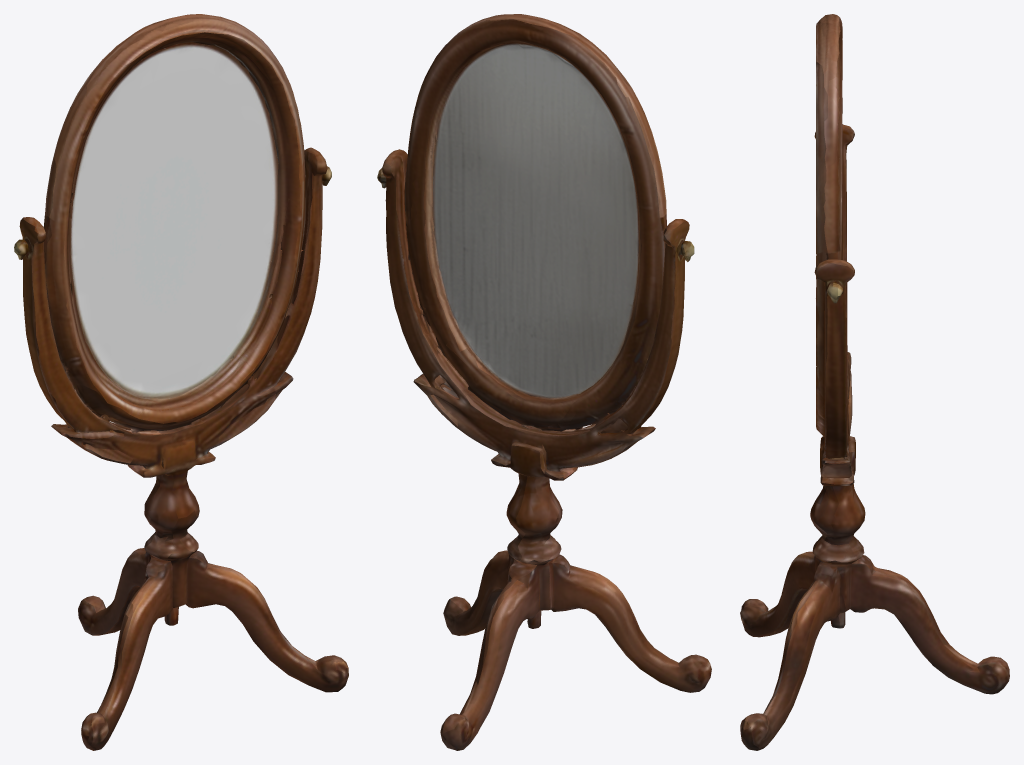
The model's file is anomaly_mirror.glb.
3 views of the same model, side by side, from view 1: azimuth 30°, elevation 25°; view 2: azimuth 150°, elevation 25°; view 3: azimuth 270°, elevation 25° (orthographic).
Parts seen in each view (by area): view 1: geometry_0; view 2: geometry_0; view 3: geometry_0.
Boxes of the visible parts, left/top/right/bottom form: geometry_0: left=14, top=14, right=348, bottom=750; geometry_0: left=377, top=14, right=711, bottom=750; geometry_0: left=740, top=14, right=1009, bottom=750.
Size of the model in its own units: 2.14 by 4.35 by 1.6.
1 material, 1 textured.
